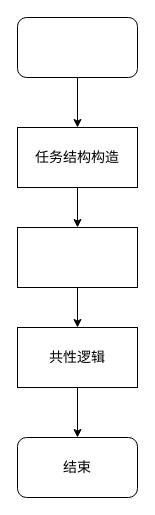
The diagram is 155 pixels wide and 515 high, and some of its shapes have lost their labels. Each missing label, with the centre of its shape:
"任务逻辑入口" goes at point 77,47.
"差异初始化" goes at point 77,257.
